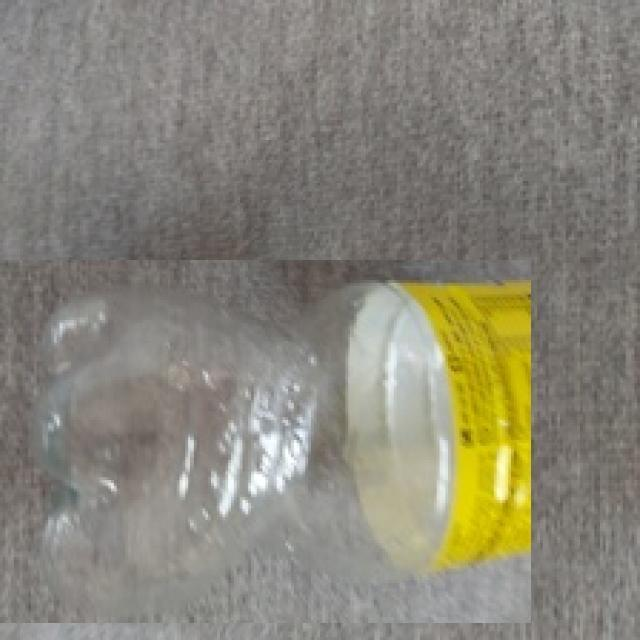bottle: (0, 260, 531, 623)
label: (370, 272, 538, 590)
